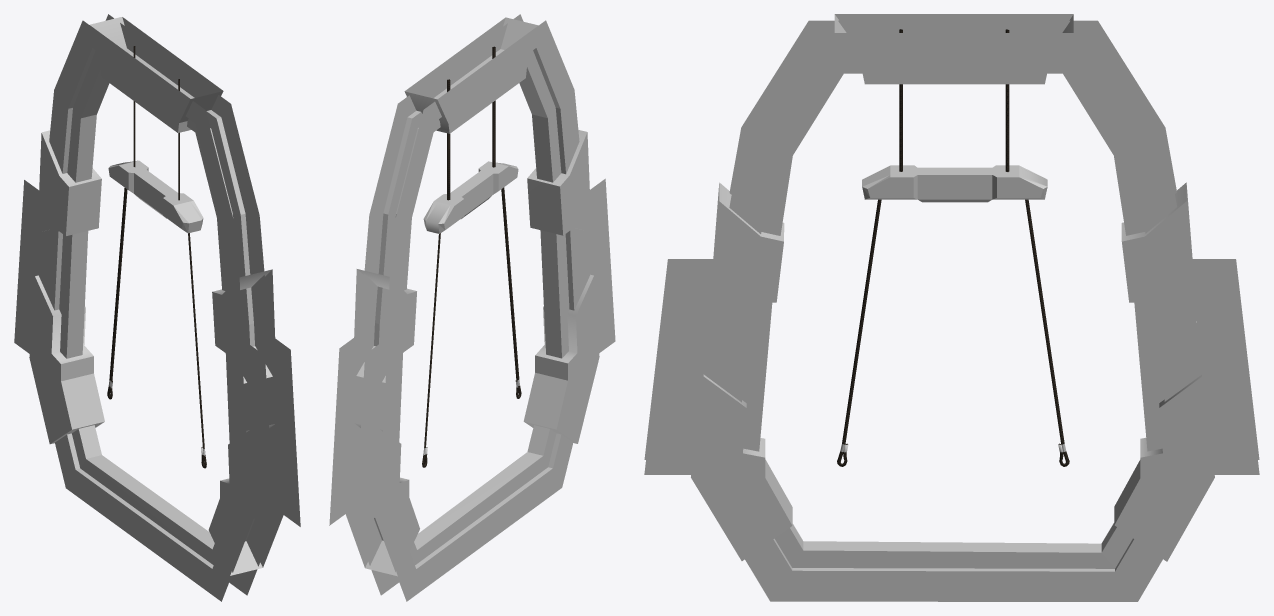
Rendered from hall_girder_001.FBX.
3 renders of one model, left to right at view 1: azimuth 30°, elevation 25°; view 2: azimuth 150°, elevation 25°; view 3: azimuth 270°, elevation 25°, orthographic. The views are drawn at different scales.
Parts seen in each view (by area): view 1: hall_girder_001; view 2: hall_girder_001; view 3: hall_girder_001.
Part boxes in pixels (x1,y1,x2,y2): hall_girder_001: [14, 14, 300, 601]; hall_girder_001: [329, 14, 615, 601]; hall_girder_001: [644, 14, 1259, 601].
Size of the model in its own units: 72.27 by 1015 by 991.
